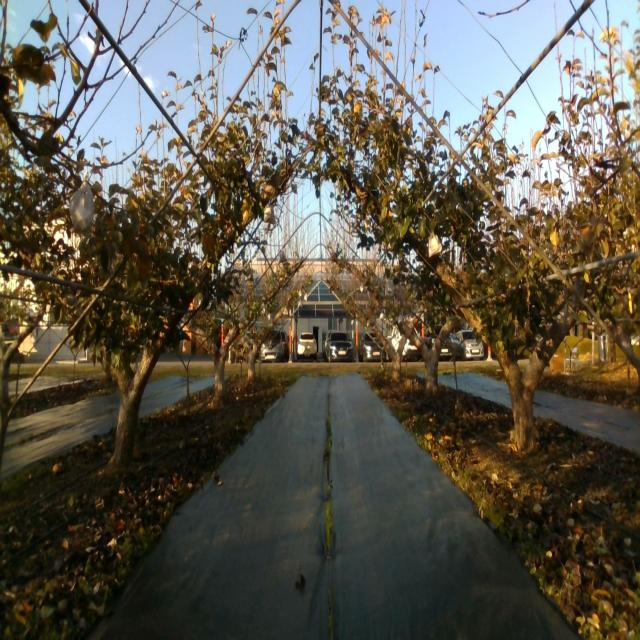pearbags: (70, 170, 96, 231), (428, 231, 441, 257), (264, 204, 276, 224)
